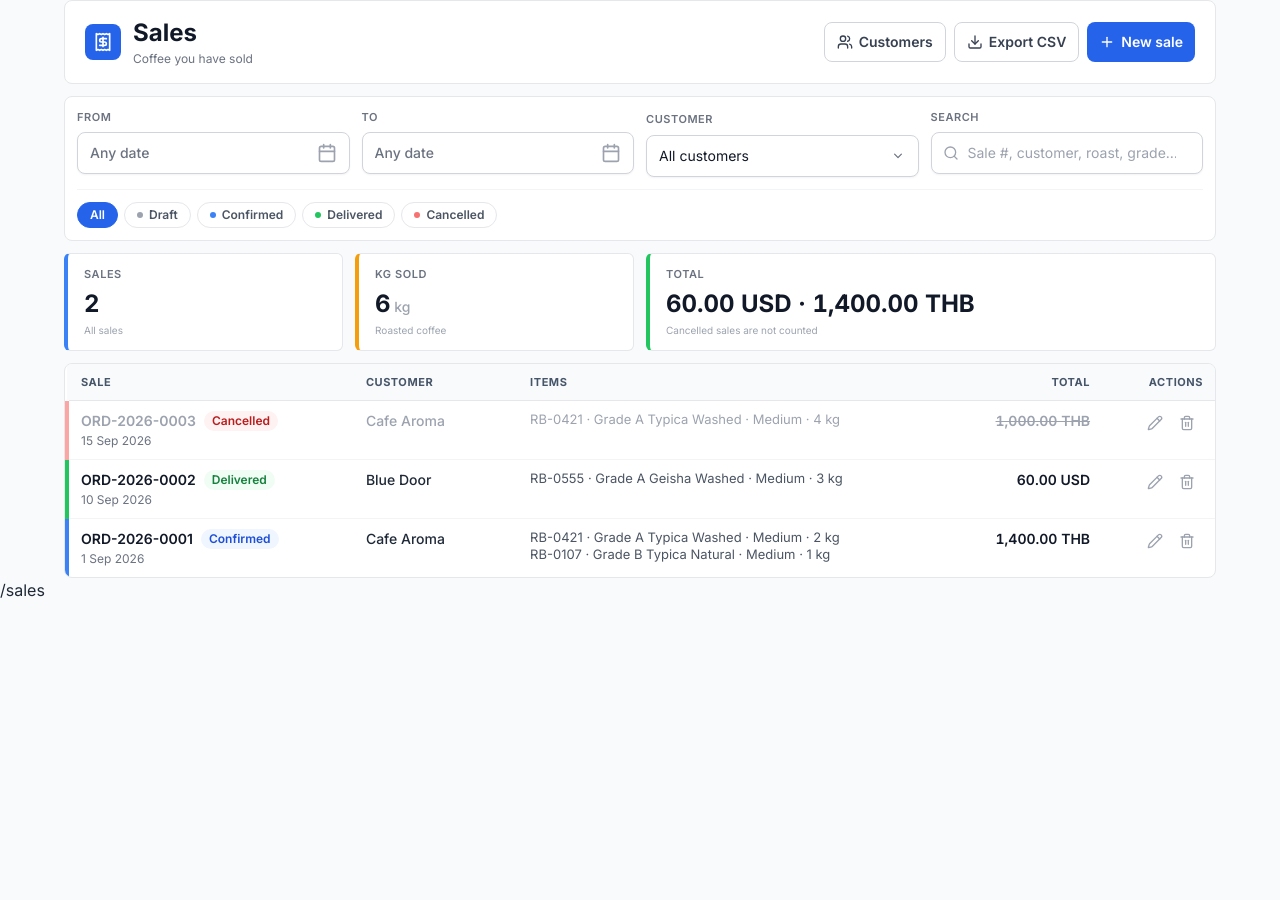
Scenario: SalesLog › opens details on the delete confirmation from a row
The image size is (1280, 900).
Click the button named "Delete sale ORD-2026-0002" at (1187,482), box [1171,466,1203,498]
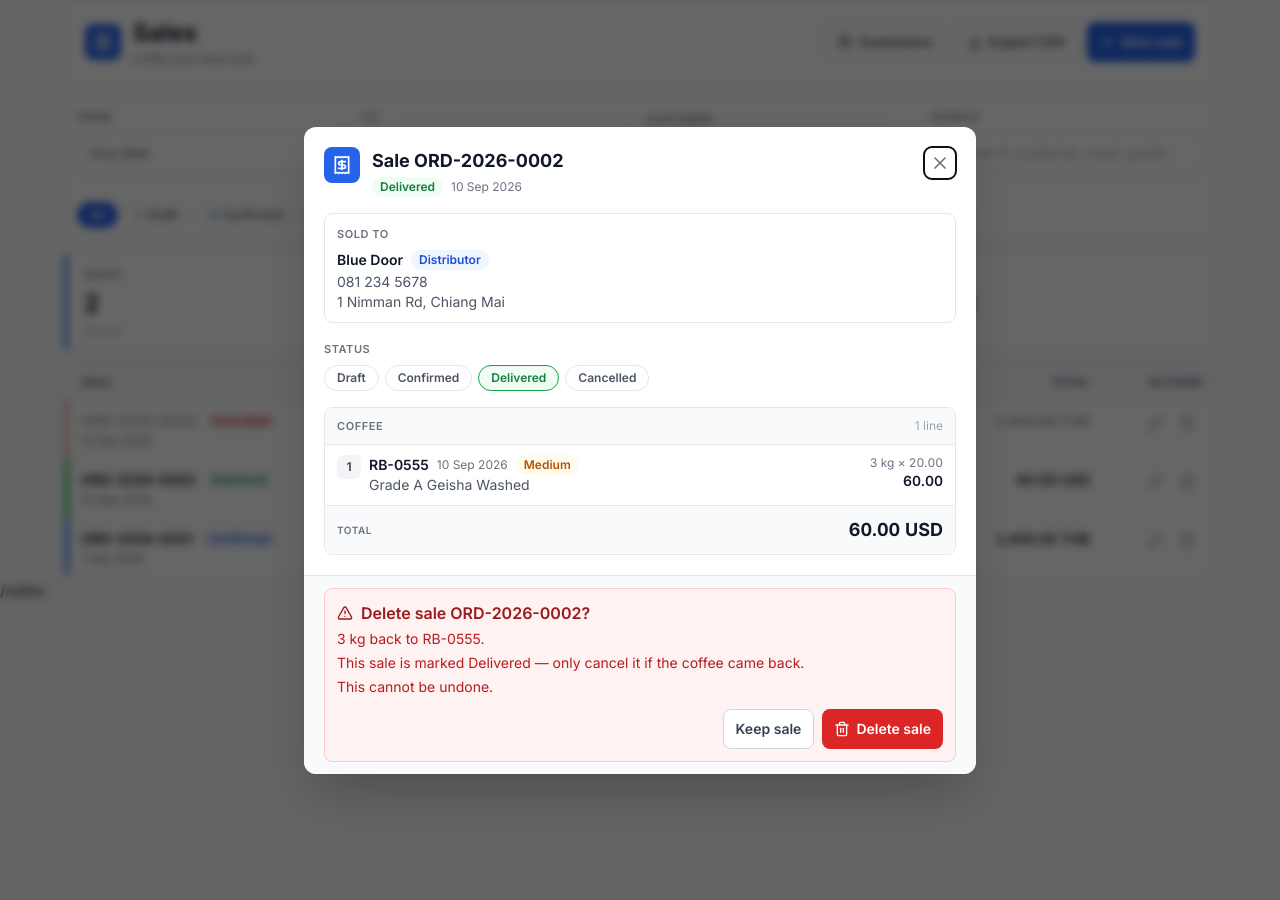
Expected: the dialog "Delete sale ORD-2026-0002?" is shown, [324,588,956,762]
